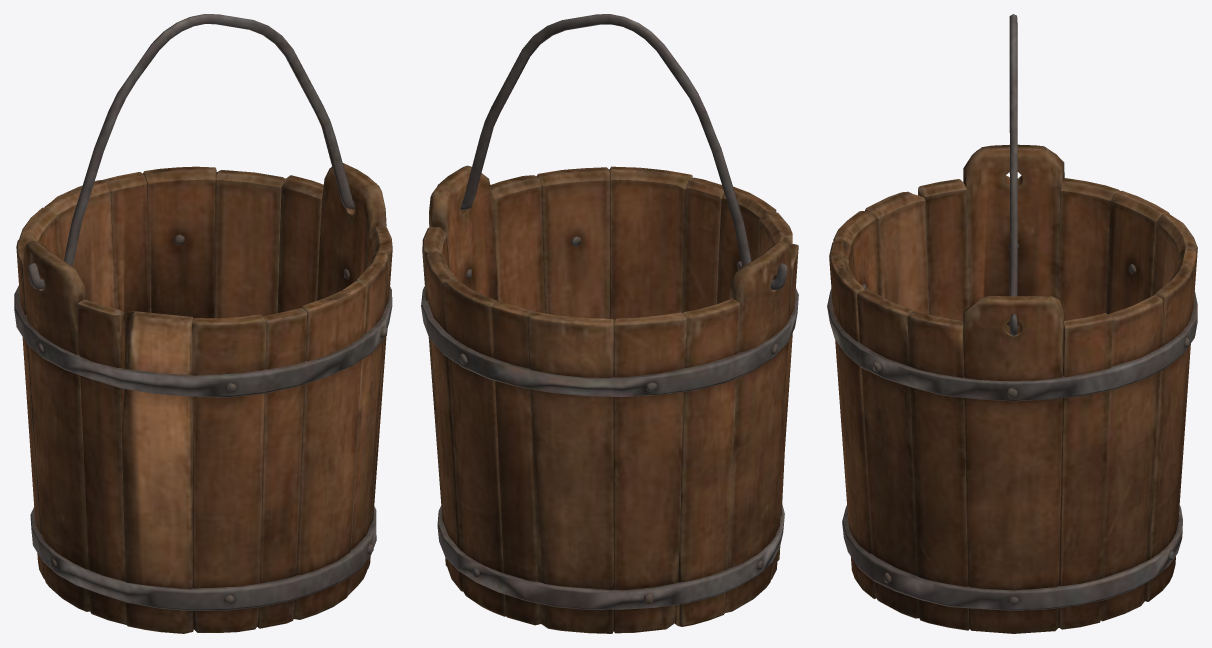
The model's file is utility_bucket.glb.
3 views of the same model, side by side, from view 1: azimuth 30°, elevation 25°; view 2: azimuth 150°, elevation 25°; view 3: azimuth 270°, elevation 25° (orthographic).
Visible parts, largest first — view 1: wooden_bucket_01; view 2: wooden_bucket_01; view 3: wooden_bucket_01.
Part boxes in pixels (x1=…): wooden_bucket_01: x1=14, y1=14, x2=392, y2=633; wooden_bucket_01: x1=421, y1=14, x2=798, y2=633; wooden_bucket_01: x1=827, y1=14, x2=1197, y2=633.
Size of the model in its own units: 0.367 by 0.5499 by 0.3419.
Materials: 1 (1 with a texture image).
